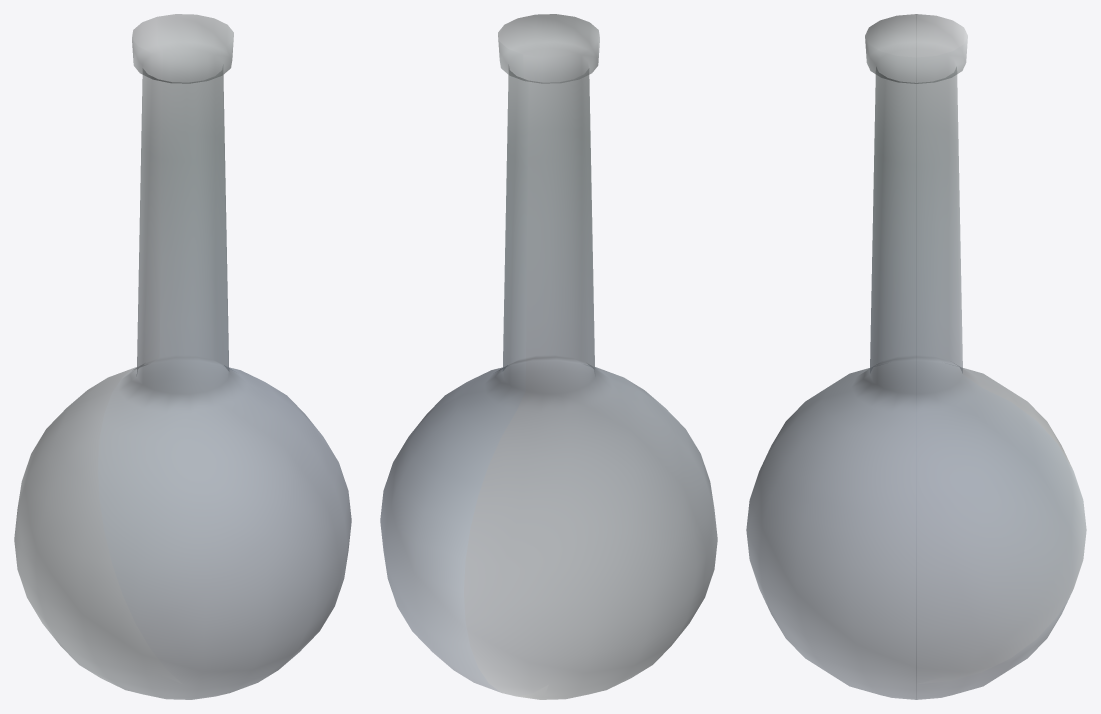
File: lab-flask--1.gltf
3 renders of one model, left to right at view 1: azimuth 30°, elevation 25°; view 2: azimuth 150°, elevation 25°; view 3: azimuth 270°, elevation 25°, orthographic.
Parts seen in each view (by area): view 1: Bottle_1; view 2: Bottle_1; view 3: Bottle_1.
Part boxes in pixels (bbox=[...]): Bottle_1: bbox=[14, 14, 351, 699]; Bottle_1: bbox=[380, 14, 717, 699]; Bottle_1: bbox=[746, 14, 1086, 699].
Size of the model in its own units: 0.2137 by 0.4493 by 0.2137.
Materials: 1 (1 with a texture image).
